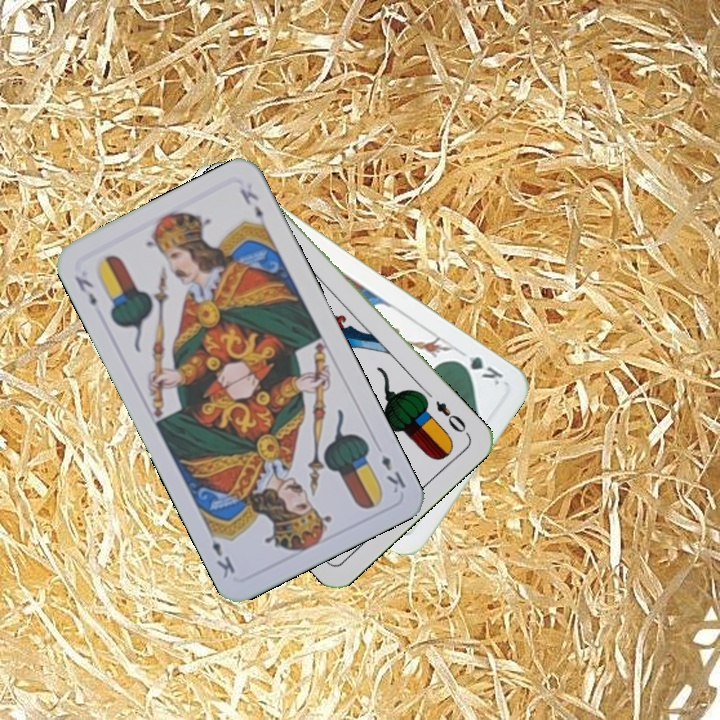EK: (377, 450, 409, 496), (70, 271, 99, 309)
EO: (431, 396, 469, 436)
GK: (450, 352, 505, 388)
